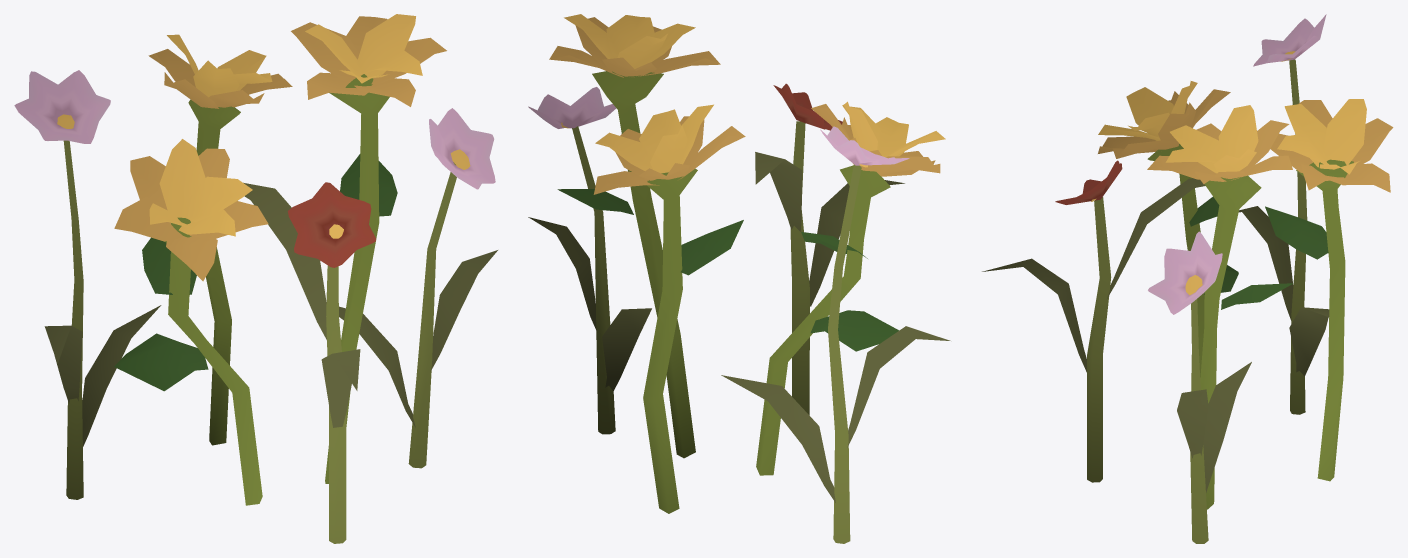
The model's file is wildflower_clump.glb.
The picture shows the model from 3 angles, left to right: view 1: azimuth 30°, elevation 25°; view 2: azimuth 150°, elevation 25°; view 3: azimuth 270°, elevation 25°; orthographic projection. The views are drawn at different scales.
Visible parts, largest first — view 1: SM_Env_Wildflowers_01_LOD1; view 2: SM_Env_Wildflowers_01_LOD1; view 3: SM_Env_Wildflowers_01_LOD1.
Boxes of the visible parts, bbox=[...] form: SM_Env_Wildflowers_01_LOD1: bbox=[14, 14, 497, 543]; SM_Env_Wildflowers_01_LOD1: bbox=[528, 14, 950, 543]; SM_Env_Wildflowers_01_LOD1: bbox=[982, 14, 1393, 543].
Bounding box in the file's own units: 0.6853 × 0.6616 × 0.6176.
Materials: 1 (1 with a texture image).
